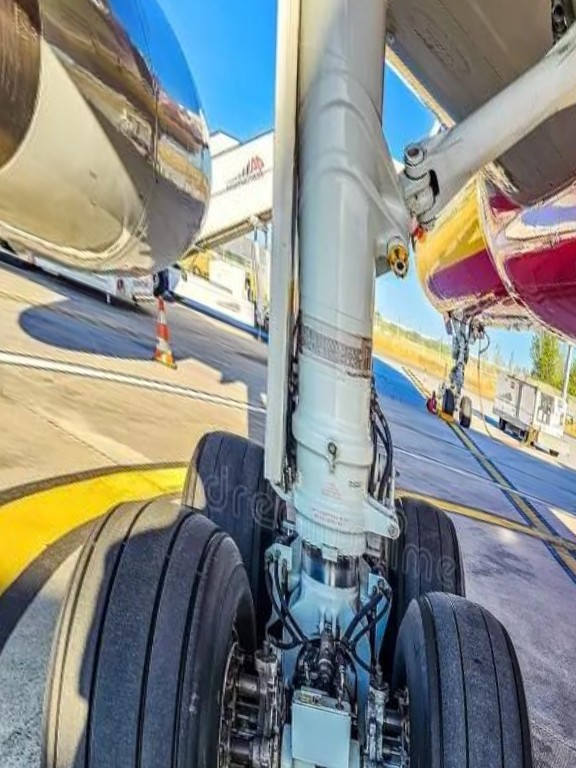chock: (439, 409, 454, 429)
wheel: (34, 457, 260, 768), (376, 578, 556, 768), (185, 415, 278, 629), (378, 485, 472, 696), (458, 393, 472, 429), (441, 386, 455, 418)
